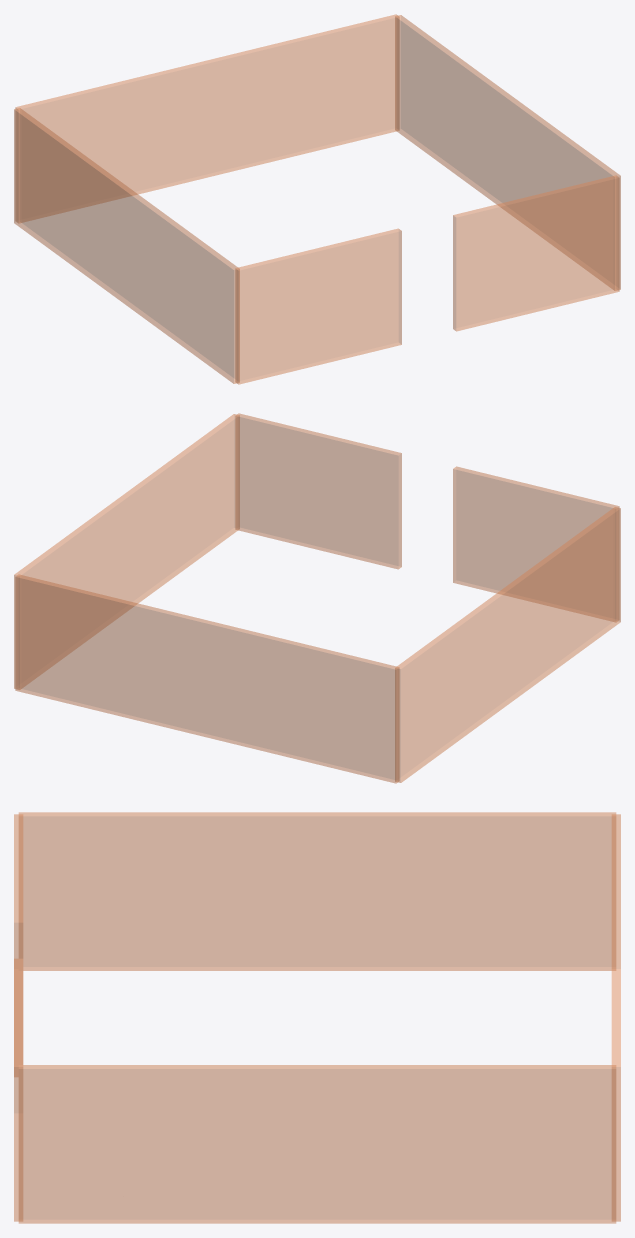
Rendered from glass-skin-5.glb.
3 renders of one model, top to bottom at view 1: azimuth 30°, elevation 25°; view 2: azimuth 150°, elevation 25°; view 3: azimuth 270°, elevation 25°, orthographic. The views are drawn at different scales.
Parts seen in each view (by area): view 1: glass-skin-5; view 2: glass-skin-5; view 3: glass-skin-5.
Part boxes in pixels (left/top/right/bottom): glass-skin-5: left=14, top=14, right=620, bottom=384; glass-skin-5: left=14, top=413, right=620, bottom=783; glass-skin-5: left=14, top=812, right=620, bottom=1223.
Size of the model in its own units: 14.22 by 4 by 14.22.
Materials: 1 (1 with a texture image).
